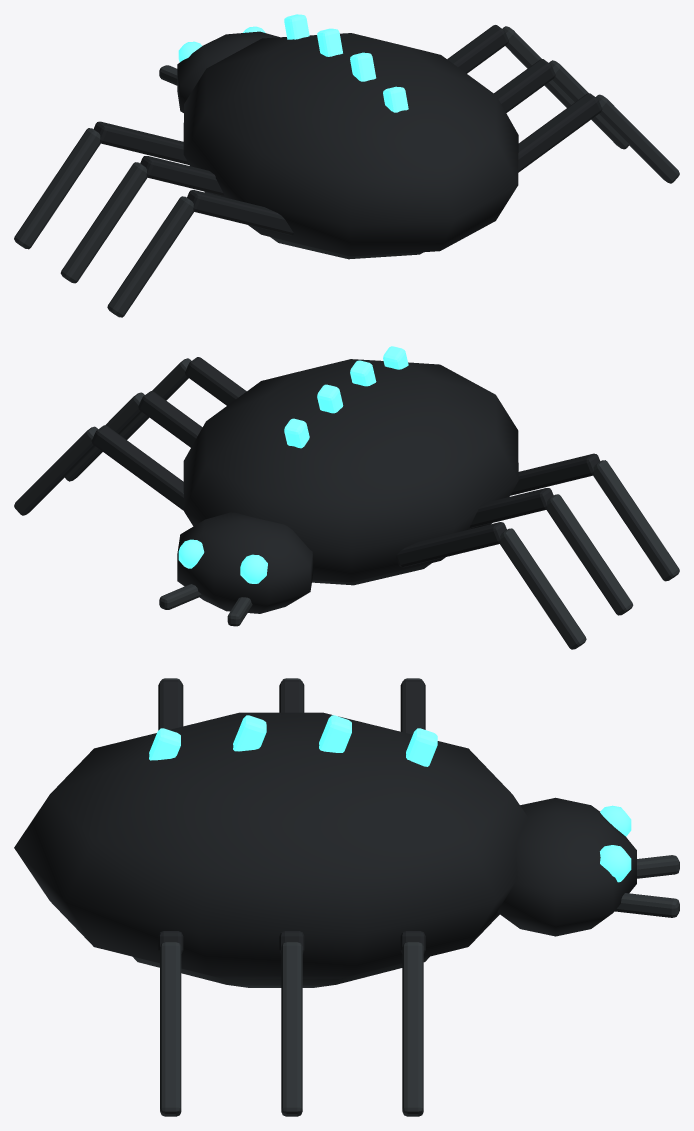
File: scuttler.glb
The picture shows the model from 3 angles, top to bottom: view 1: azimuth 30°, elevation 25°; view 2: azimuth 150°, elevation 25°; view 3: azimuth 270°, elevation 25°; orthographic projection. The views are drawn at different scales.
Visible parts, largest first — view 1: carapace, lowerL2, lowerL0, lowerL1, upperR2, head_shell, upperL2, upperL0, lowerR2, upperL1, upperR1, upperR0 (+7 smaller); view 2: carapace, head_shell, lowerL0, lowerL1, lowerL2, upperR0, upperL0, lowerR0, upperL2, upperL1, upperR1, upperR2 (+10 smaller); view 3: carapace, head_shell, lowerR1, lowerR0, lowerR2, underside, upperL0, upperL2, mandibleR, spine1, spine2, spine0 (+4 smaller).
Part boxes in pixels (x1=…): carapace: x1=183, y1=33, x2=518, y2=256; lowerL2: x1=107, y1=196, x2=193, y2=317; lowerL0: x1=14, y1=128, x2=100, y2=249; lowerL1: x1=60, y1=162, x2=147, y2=283; upperR2: x1=518, y1=93, x2=602, y2=172; head_shell: x1=177, y1=31, x2=279, y2=112; upperL2: x1=187, y1=190, x2=293, y2=235; upperL0: x1=94, y1=121, x2=189, y2=164; lowerR2: x1=596, y1=94, x2=679, y2=183; upperL1: x1=140, y1=156, x2=224, y2=196; upperR1: x1=494, y1=59, x2=555, y2=112; upperR0: x1=447, y1=25, x2=508, y2=73; carapace: x1=183, y1=359, x2=518, y2=582; head_shell: x1=177, y1=512, x2=313, y2=613; lowerL0: x1=500, y1=528, x2=586, y2=649; lowerL1: x1=546, y1=494, x2=633, y2=615; lowerL2: x1=593, y1=460, x2=679, y2=581; upperR0: x1=91, y1=425, x2=183, y2=510; upperL0: x1=396, y1=522, x2=506, y2=567; lowerR0: x1=14, y1=426, x2=97, y2=515; upperL2: x1=510, y1=453, x2=600, y2=495; upperL1: x1=469, y1=488, x2=553, y2=528; upperR1: x1=138, y1=391, x2=202, y2=447; upperR2: x1=185, y1=357, x2=246, y2=405; carapace: x1=14, y1=712, x2=528, y2=978; head_shell: x1=497, y1=797, x2=636, y2=936; lowerR1: x1=281, y1=942, x2=302, y2=1116; lowerR0: x1=402, y1=942, x2=423, y2=1116; lowerR2: x1=160, y1=942, x2=181, y2=1116; underside: x1=133, y1=956, x2=429, y2=987; upperL0: x1=400, y1=680, x2=425, y2=734; upperL2: x1=158, y1=680, x2=183, y2=730; mandibleR: x1=615, y1=893, x2=679, y2=917; spine1: x1=319, y1=715, x2=351, y2=752; spine2: x1=233, y1=715, x2=266, y2=751; spine0: x1=406, y1=728, x2=437, y2=766.
Size of the model in its own units: 2.39 by 0.7596 by 1.87.
